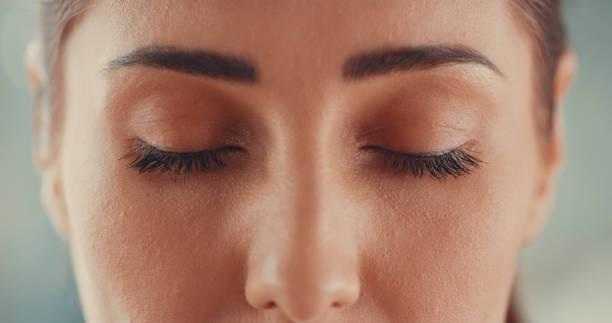Drowsy: (10, 3, 604, 323)
